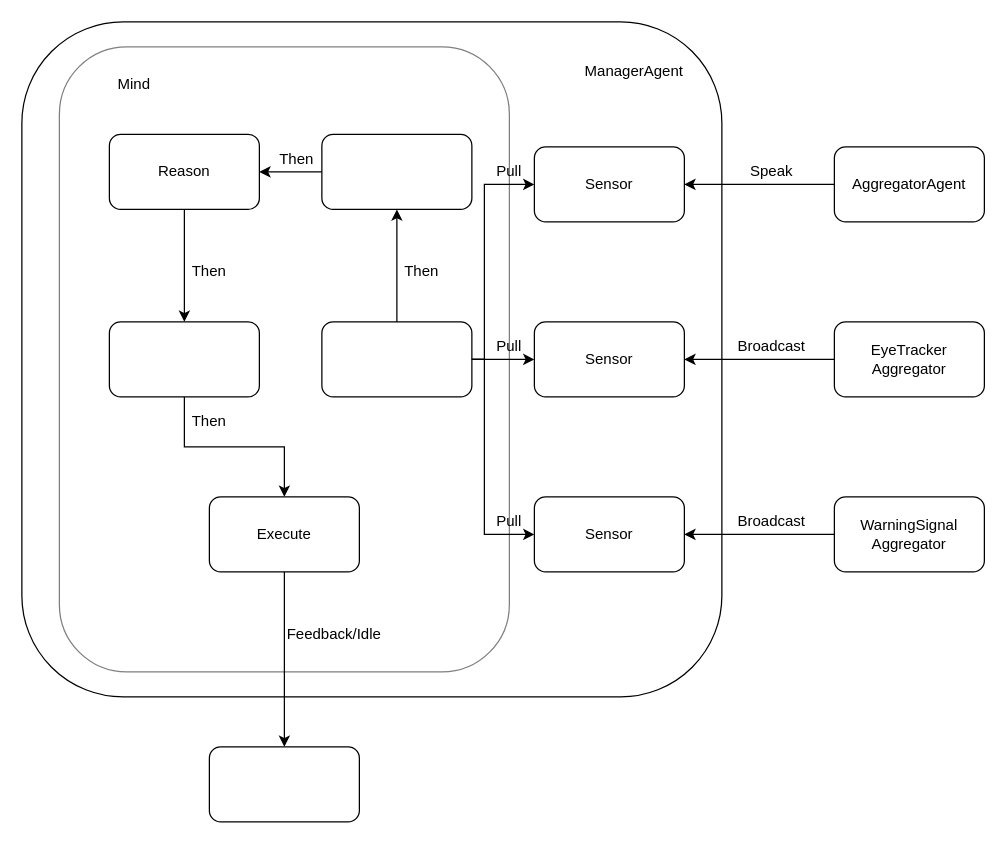
The diagram is 1006 pixels wide and 844 high, and some of its shapes have lost their labels. Each missing label, with the centre of its shape:
Decide: [183,359]
Environment: [283,784]
Perceive: [396,359]
Revise: [396,171]
